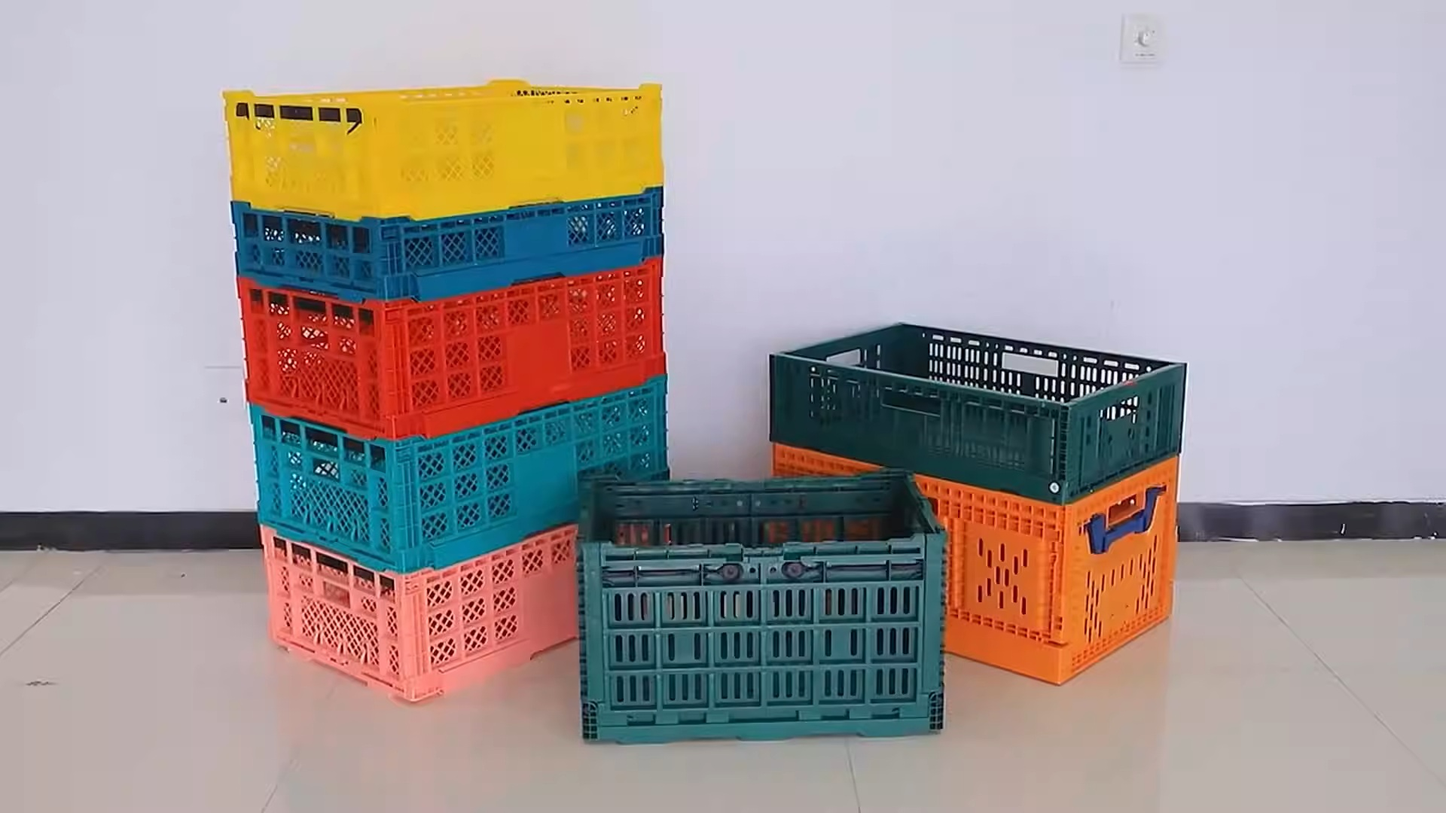bulk_waste: (770, 324, 1186, 684), (576, 470, 947, 743), (250, 374, 669, 571), (238, 258, 664, 439), (224, 80, 663, 219), (259, 525, 575, 702), (232, 187, 662, 301)
